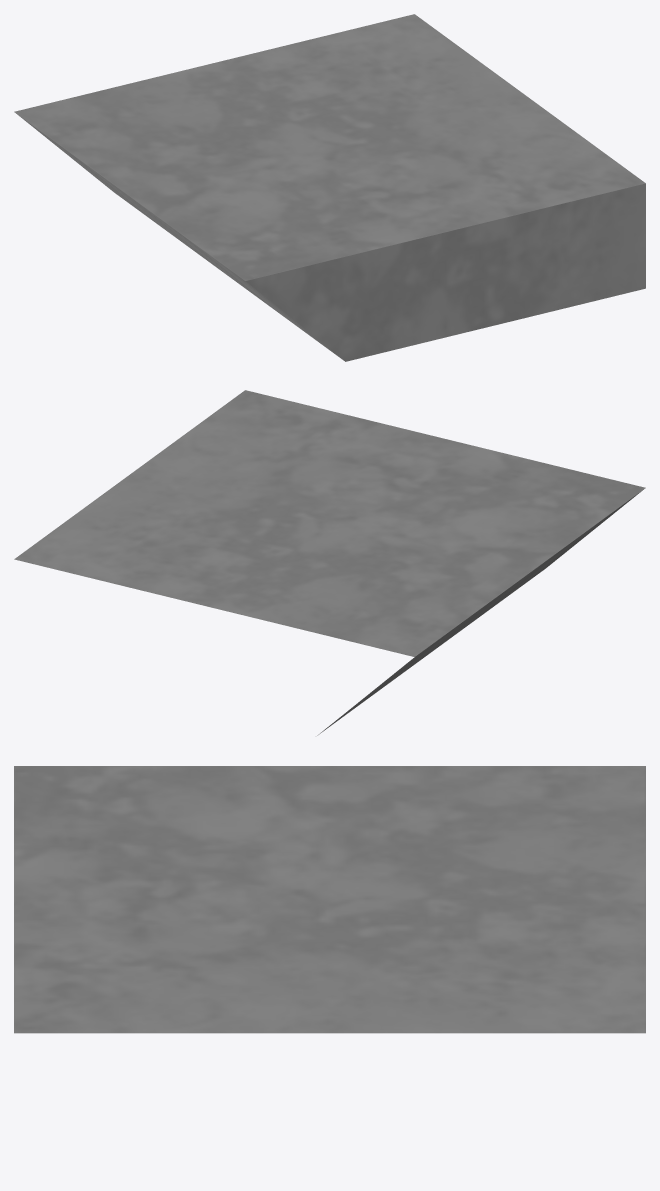
File: grd_top_left.fbx
3 renders of one model, top to bottom at view 1: azimuth 30°, elevation 25°; view 2: azimuth 150°, elevation 25°; view 3: azimuth 270°, elevation 25°, orthographic. The views are drawn at different scales.
Parts seen in each view (by area): view 1: top_left; view 2: top_left; view 3: top_left.
Boxes of the visible parts, x1,y1,x2,y2 form: top_left: [14, 14, 645, 361]; top_left: [14, 390, 645, 735]; top_left: [14, 766, 645, 1033].
Size of the model in its own units: 39.98 by 10.03 by 39.98.
